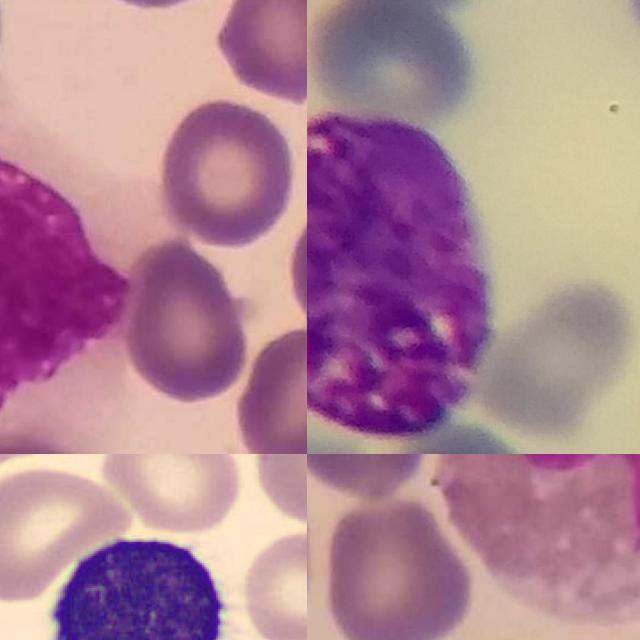Basophil: (307, 109, 494, 439)
Eosinophil: (439, 454, 640, 621)
Lymphocyte: (29, 522, 239, 640)
Monocyte: (0, 121, 137, 432)
RBC: (0, 461, 132, 602), (97, 454, 246, 535), (237, 526, 307, 640)
